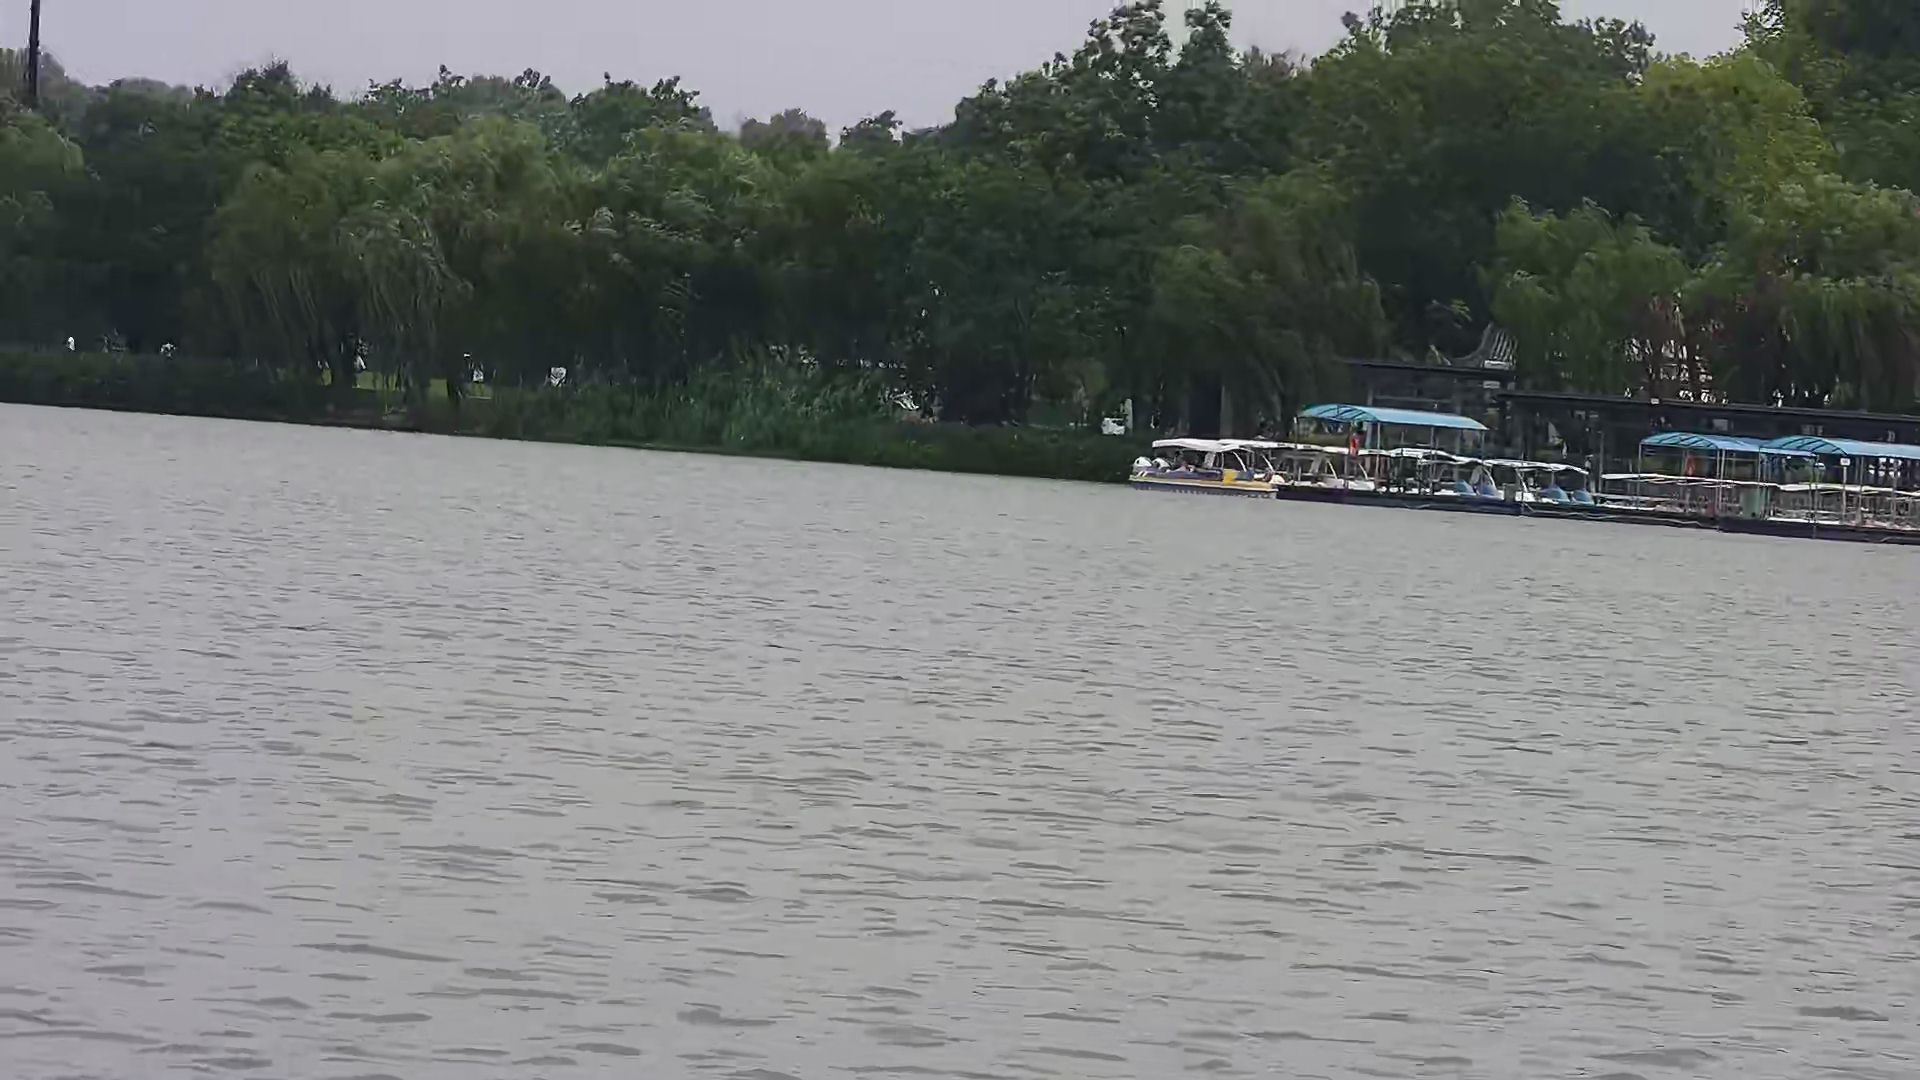harbor: (1138, 372, 1915, 545)
